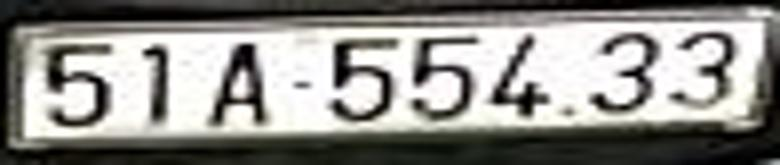-: (291, 79, 310, 90)
.: (564, 108, 572, 117)
1: (145, 48, 168, 125)
3: (592, 33, 653, 113), (673, 30, 734, 110)
4: (493, 35, 551, 116)
5: (48, 44, 113, 128), (414, 37, 475, 121), (331, 39, 394, 120)
A: (214, 42, 265, 128)
